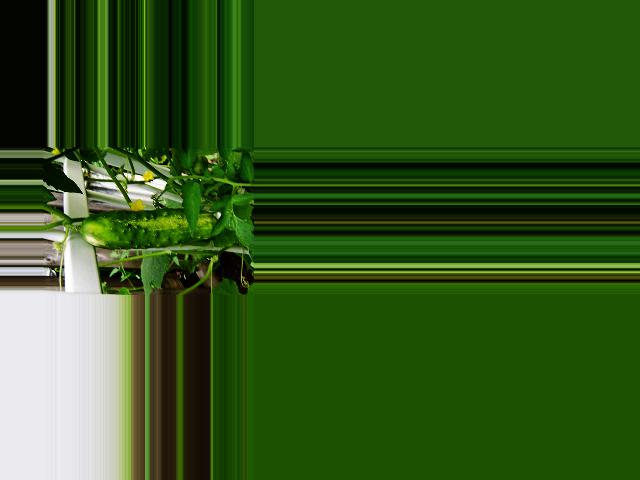cucumber: (79, 210, 216, 249)
